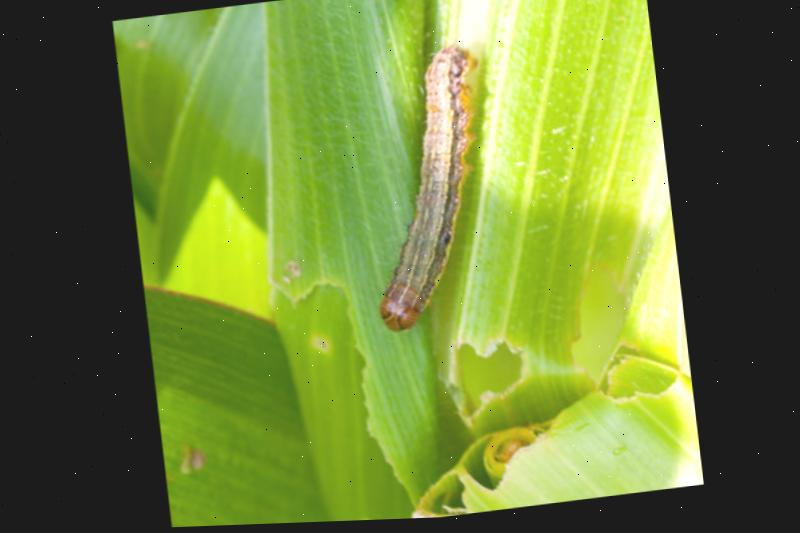fall-armyworm: (377, 45, 483, 332)
